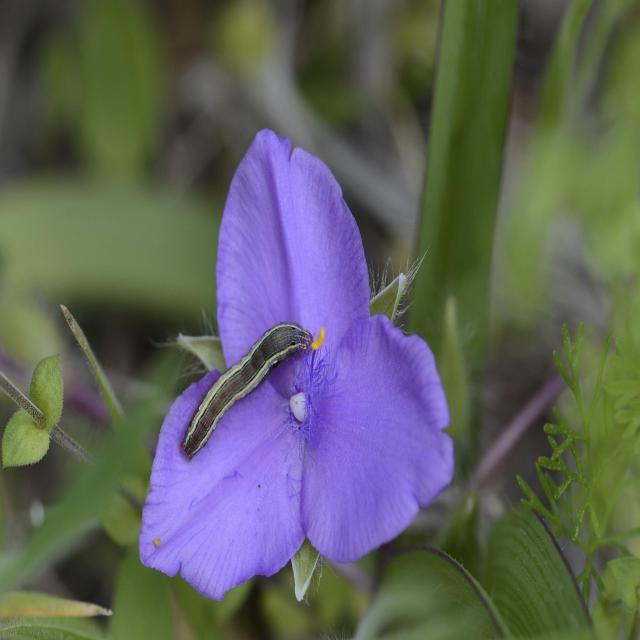army worm: (183, 322, 320, 469)
